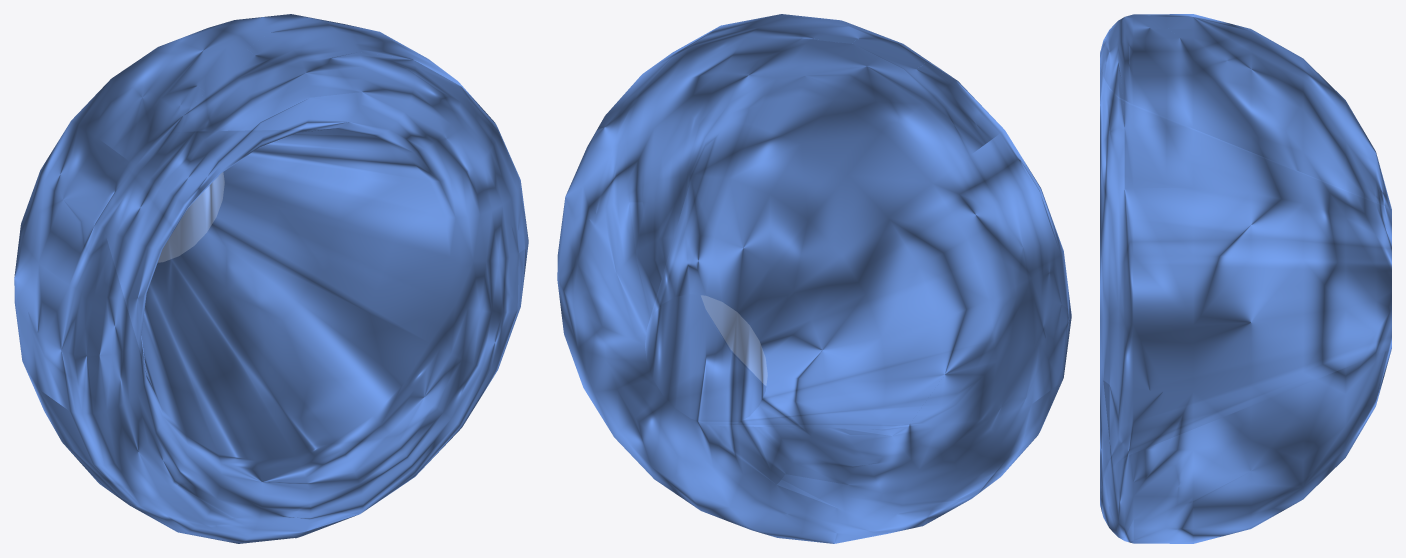
File: model_align.obj
3 renders of one model, left to right at view 1: azimuth 30°, elevation 25°; view 2: azimuth 150°, elevation 25°; view 3: azimuth 270°, elevation 25°, orthographic.
Bounding box in the file's own units: 0.1618 × 0.1628 × 0.0887.
